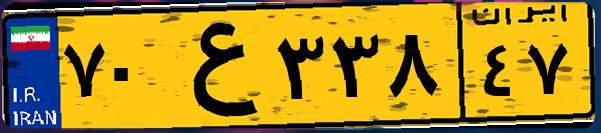0: (110, 28, 158, 98)
3: (270, 28, 330, 110), (330, 28, 385, 110)
4: (475, 38, 525, 113)
7: (57, 26, 110, 100), (525, 38, 570, 115)
8: (385, 28, 445, 110)
ع: (158, 12, 270, 120)
